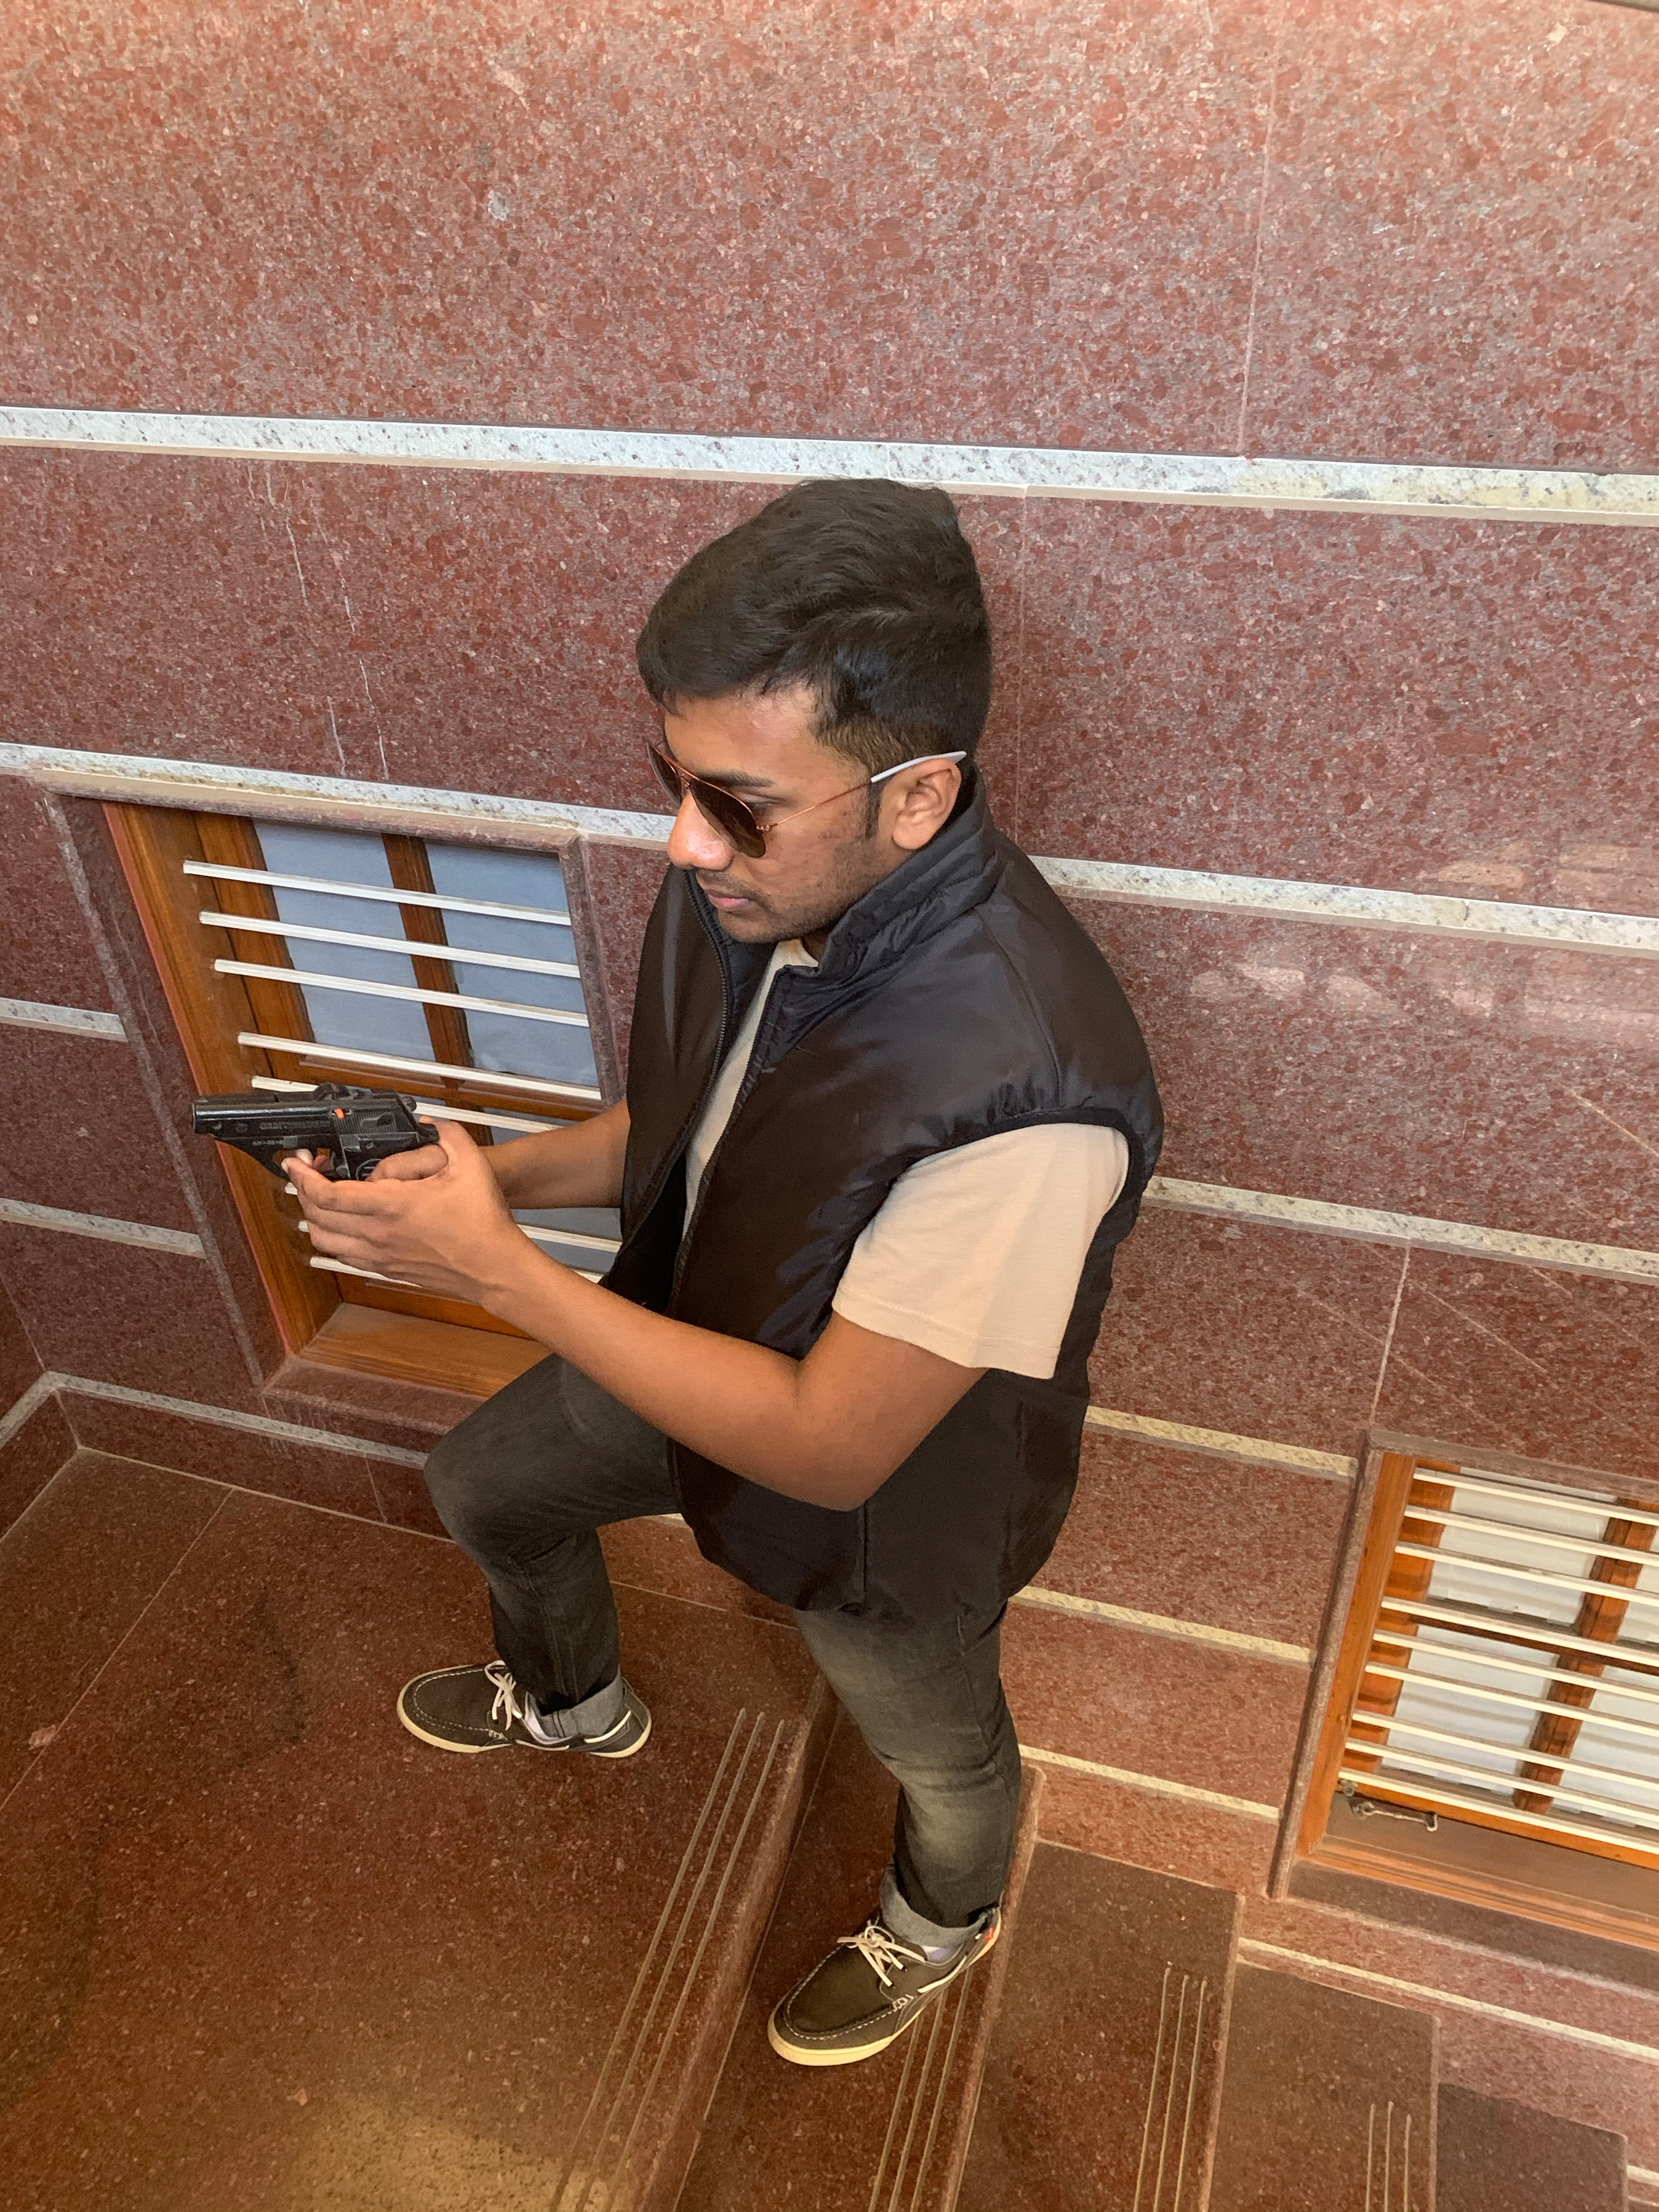gun: (183, 1068, 423, 1217)
